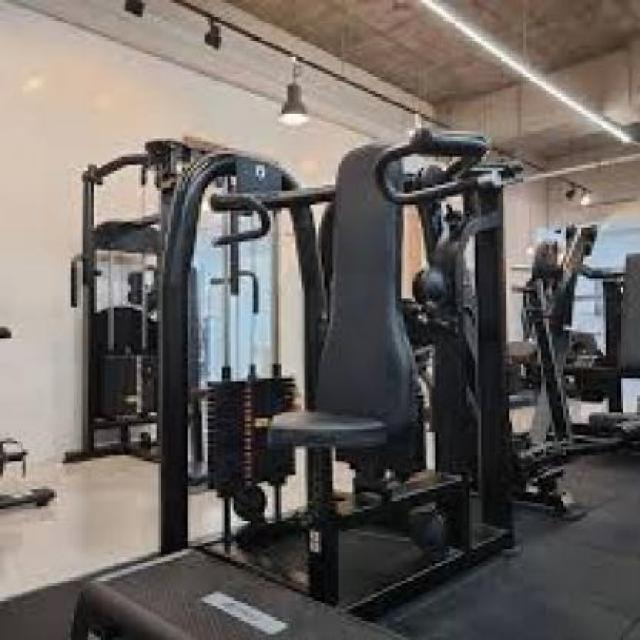shoulder press machine: (120, 110, 591, 636)
